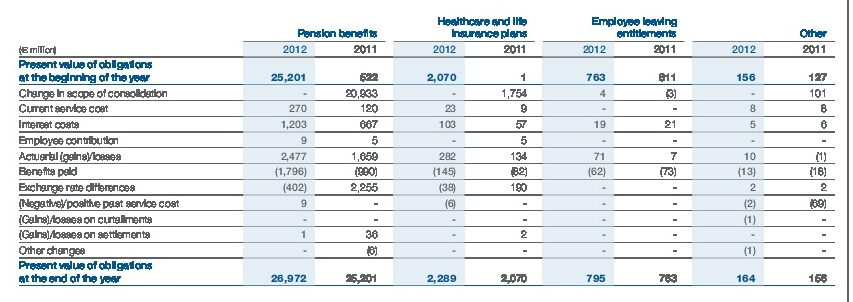table: (0, 0, 853, 302)
